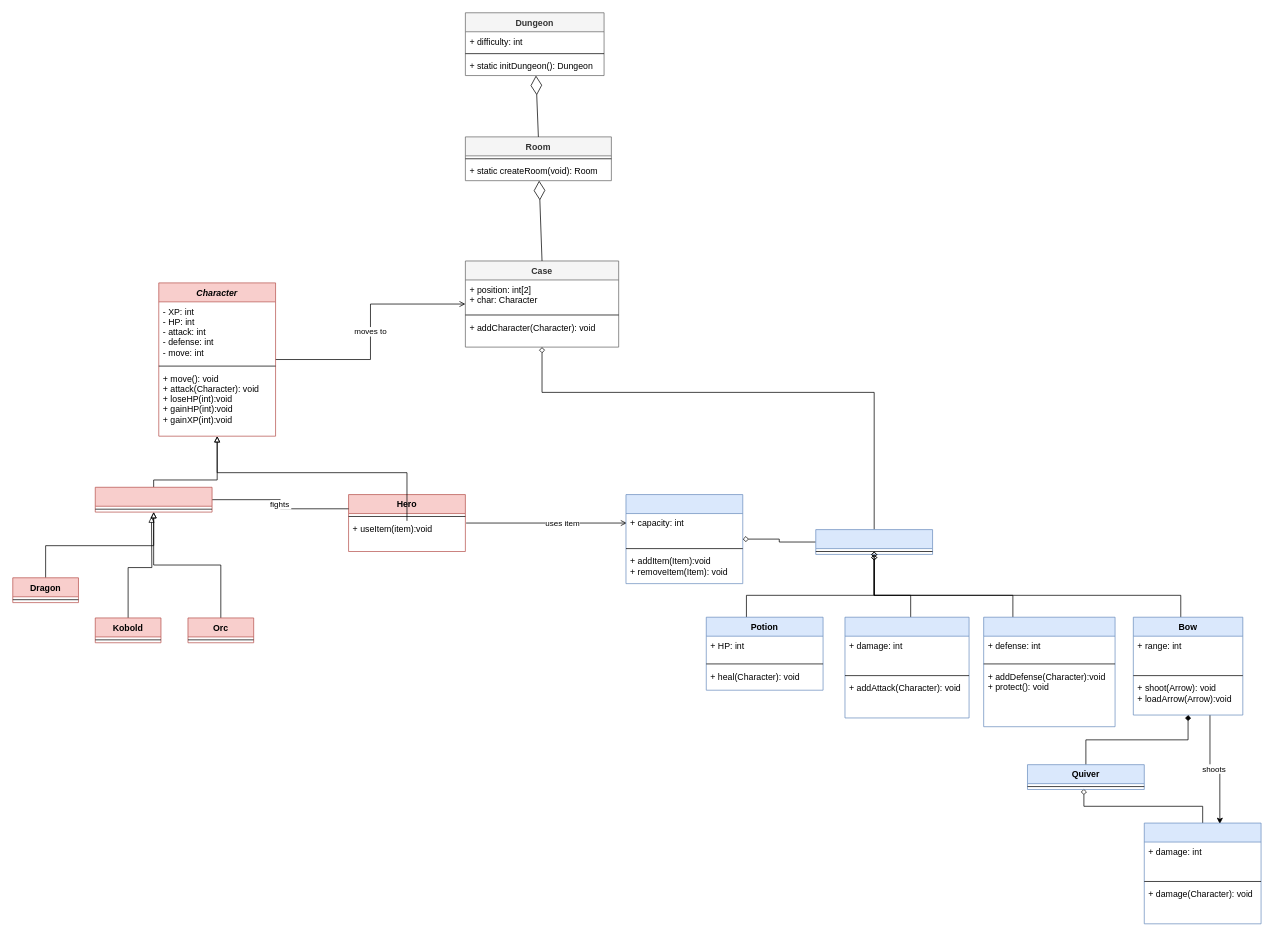
Some shapes in this 1274 by 939 pixel diagram are drawn without their labels. The shapes that lost their labels are listed below. From the top down, each one's box as (x1, y1, x2, y2) in pixels, then its label:
(95, 487, 212, 512): Monster
(625, 494, 743, 584): Inventory
(815, 529, 933, 554): Item
(844, 616, 969, 718): Sword
(983, 616, 1115, 727): Shield
(1144, 822, 1261, 924): Arrow
